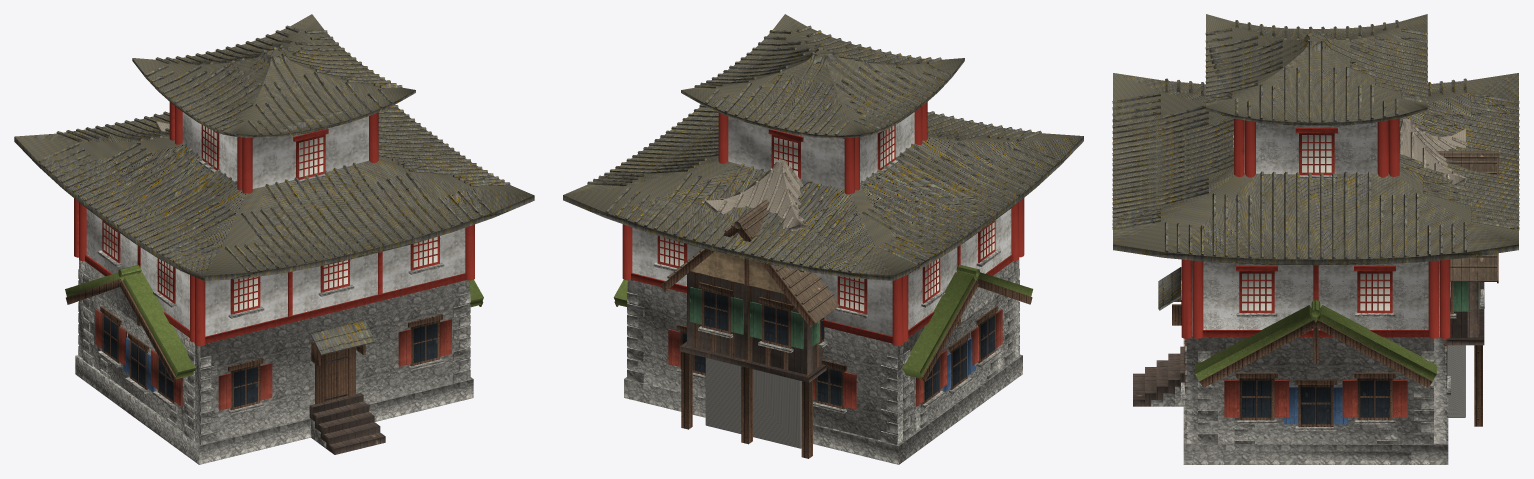
The model's file is HighlandsBuildings.gltf.
The picture shows the model from 3 angles, left to right: view 1: azimuth 30°, elevation 25°; view 2: azimuth 150°, elevation 25°; view 3: azimuth 270°, elevation 25°; orthographic projection. The views are drawn at different scales.
Visible parts, largest first — view 1: monasteryHall, bellTower, herderLonghouse, watchTower; view 2: monasteryHall, bellTower, watchTower, perchStand, herderLonghouse; view 3: monasteryHall, bellTower, herderLonghouse, watchTower, perchStand.
Part boxes in pixels (box(x1,y1,x2,y2)): monasteryHall: box(14, 105, 534, 464); bellTower: box(132, 14, 415, 193); herderLonghouse: box(65, 265, 483, 431); watchTower: box(309, 393, 385, 454); monasteryHall: box(563, 104, 1083, 464); bellTower: box(681, 14, 964, 194); watchTower: box(660, 199, 839, 458); perchStand: box(705, 159, 806, 448); herderLonghouse: box(613, 265, 1033, 431); monasteryHall: box(1112, 73, 1519, 464); bellTower: box(1205, 14, 1427, 178); herderLonghouse: box(1195, 300, 1436, 464); watchTower: box(1133, 151, 1498, 426); perchStand: box(1399, 119, 1466, 417).
Bounding box in the file's own units: 13.01 × 12.57 × 13.01.
22 materials, 22 textured.
